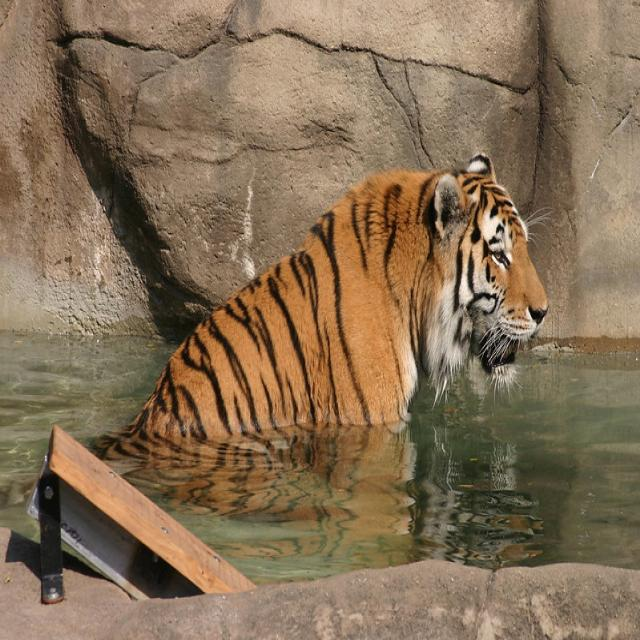Tiger: (82, 148, 550, 474)
